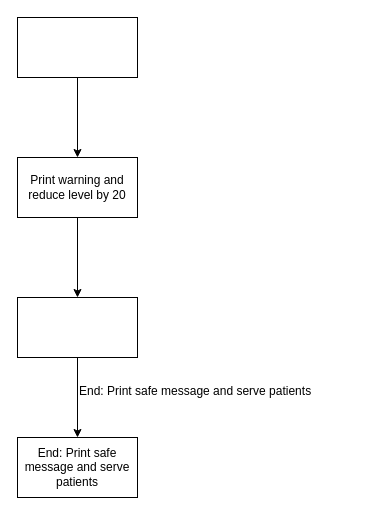
Some shapes in this 365 by 515 pixel diagram are drawn without their labels. Each missing label, with the centre of its shape:
Check condition again or exit when false: the point at 77,327
Start: Set energyLevel = 180 while energyLevel > 100: the point at 77,47
